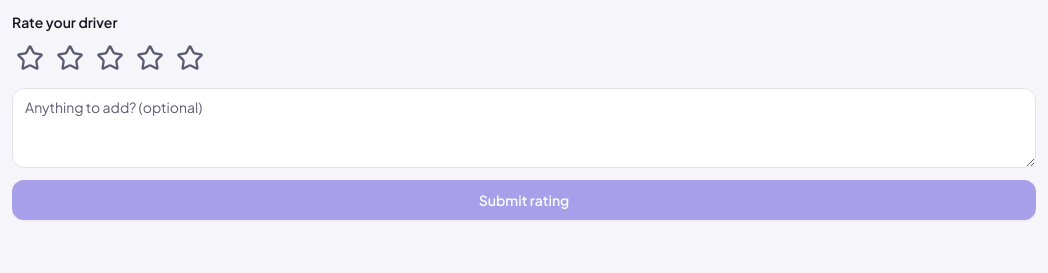
Test case: RatingForm › shows other failures and lets the rider try again
Click the button named "3 stars".
click(110, 58)  # box [92,40,128,76]
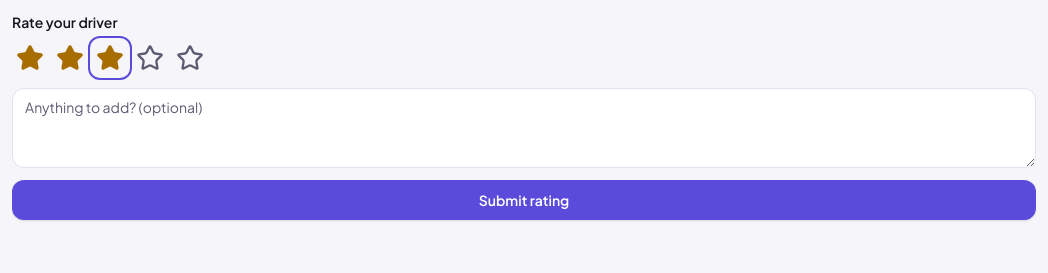
Click the button "Submit rating".
click(524, 200)  # box [12,180,1036,220]
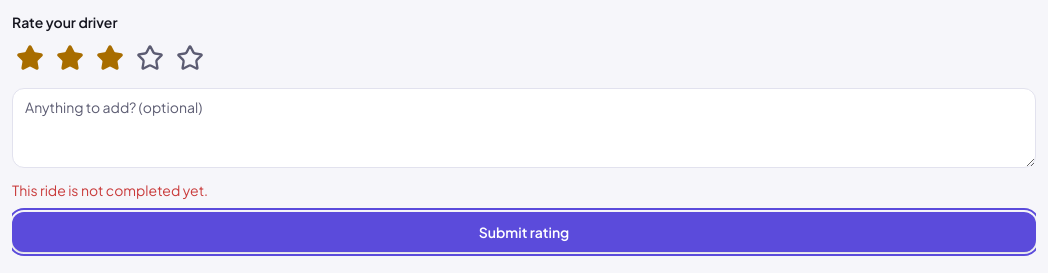
Expected: the button "Submit rating" is enabled, [12,212,1036,252]
Expected: the message reads "This ride is not completed yet.", [12,181,208,199]
